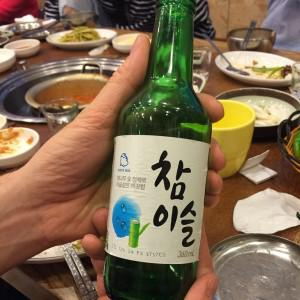soju: (102, 3, 215, 300)
